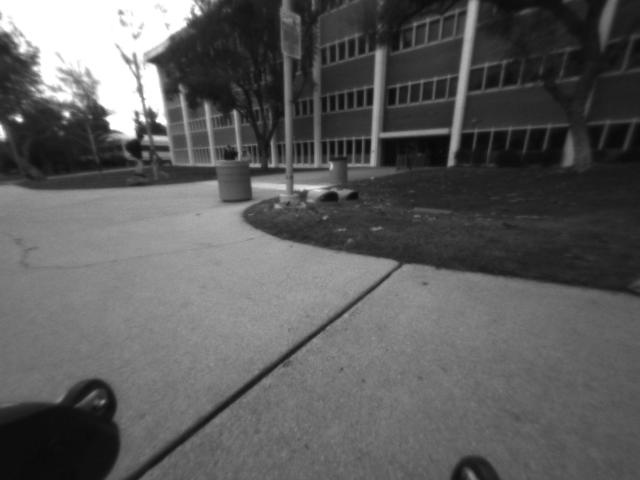trashcan: (216, 163, 252, 205), (329, 156, 349, 187)
